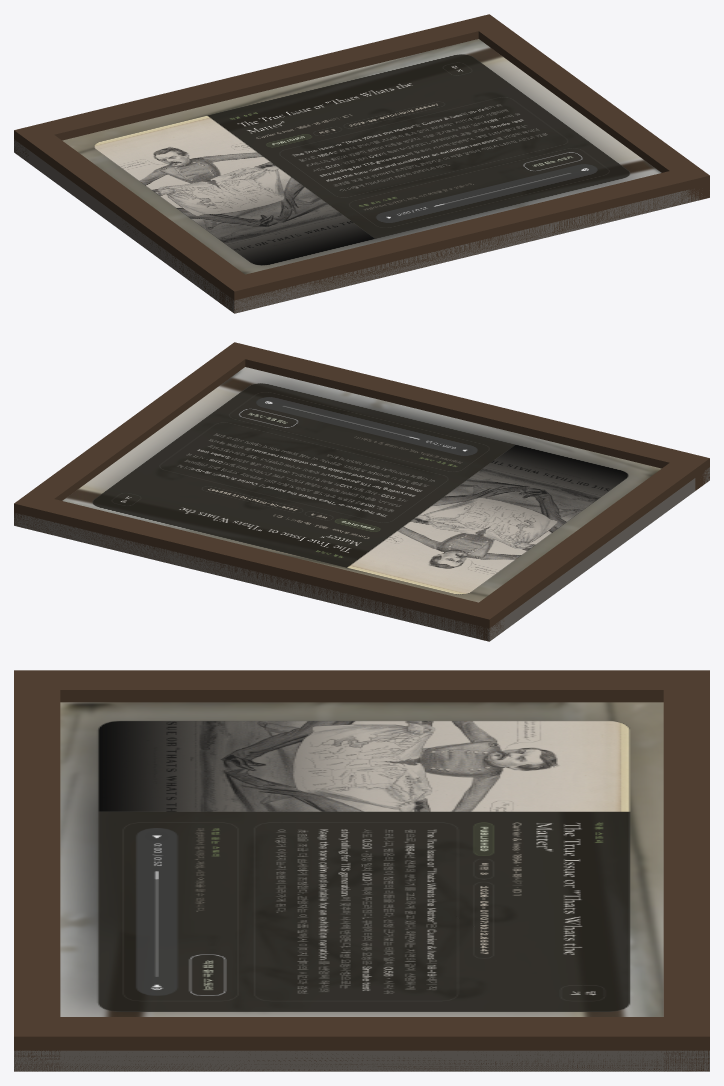
File: framed_artwork.glb
3 views of the same model, one above another, from view 1: azimuth 30°, elevation 25°; view 2: azimuth 150°, elevation 25°; view 3: azimuth 270°, elevation 25° (orthographic). The views are drawn at different scales.
Parts seen in each view (by area): view 1: Artwork_Image_Front, Frame_Bottom, Frame_Top, Back_Board, Frame_Left, Frame_Right; view 2: Artwork_Image_Front, Frame_Top, Frame_Bottom, Back_Board, Frame_Left, Frame_Right; view 3: Artwork_Image_Front, Frame_Right, Frame_Left, Frame_Bottom, Frame_Top, Back_Board.
Boxes of the visible parts, <box> form: Artwork_Image_Front: <box>62,39,661,274</box>; Frame_Bottom: <box>219,165,709,312</box>; Frame_Top: <box>14,15,500,160</box>; Back_Board: <box>14,139,702,313</box>; Frame_Left: <box>23,124,259,313</box>; Frame_Right: <box>464,14,709,202</box>; Artwork_Image_Front: <box>62,367,661,602</box>; Frame_Top: <box>14,493,504,639</box>; Frame_Bottom: <box>220,342,709,490</box>; Back_Board: <box>14,467,709,641</box>; Frame_Left: <box>464,452,695,641</box>; Frame_Right: <box>14,343,258,525</box>; Artwork_Image_Front: <box>60,702,663,1016</box>; Frame_Right: <box>14,1017,709,1071</box>; Frame_Left: <box>18,670,709,702</box>; Frame_Bottom: <box>14,670,60,1071</box>; Frame_Top: <box>663,670,709,1071</box>; Back_Board: <box>14,1050,709,1071</box>.
Size of the model in its own units: 2.24 by 0.1 by 1.8.
Materials: 3 (1 with a texture image).
